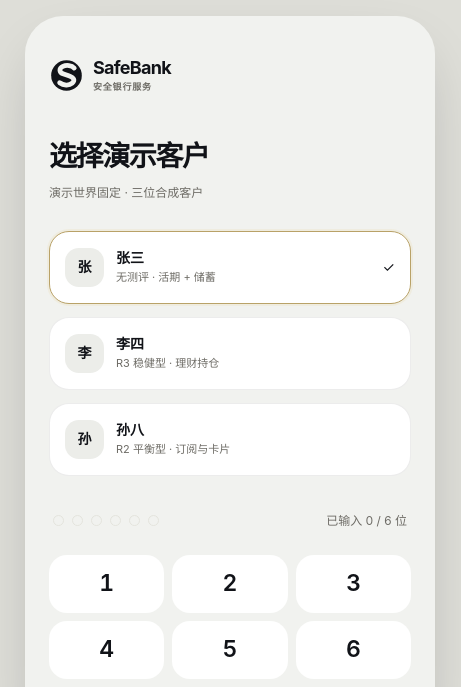
Test case: 登录页 › 未满 6 位不提交
Expected: the heading "选择演示客户" is shown, [49, 139, 209, 173]
Click the button "1".
click(107, 584)  # box [49, 555, 164, 613]
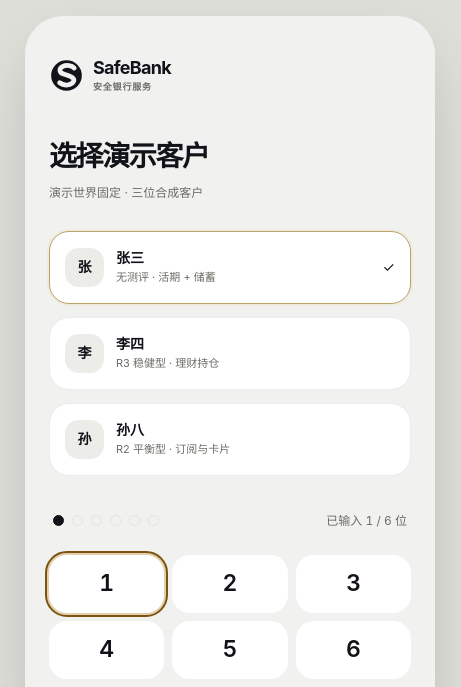
Click the button "2".
click(230, 584)  # box [172, 555, 288, 613]
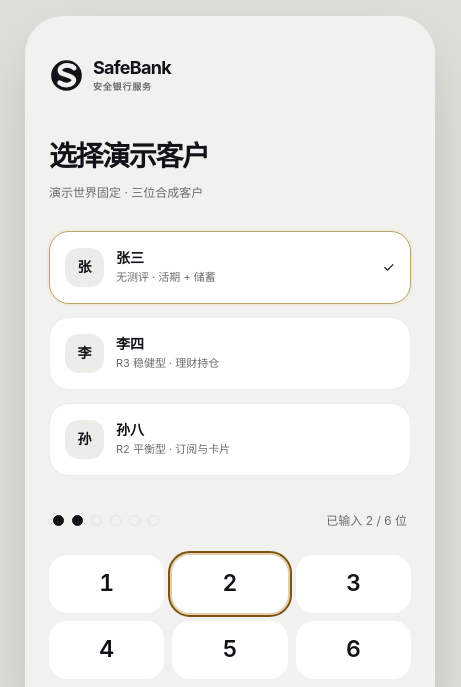
Click the button "3".
click(353, 584)  # box [296, 555, 411, 613]
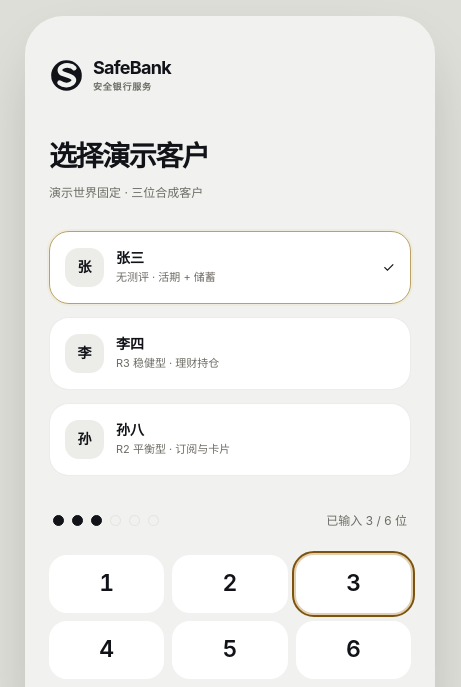
Click the button "4".
click(107, 650)  # box [49, 621, 164, 679]
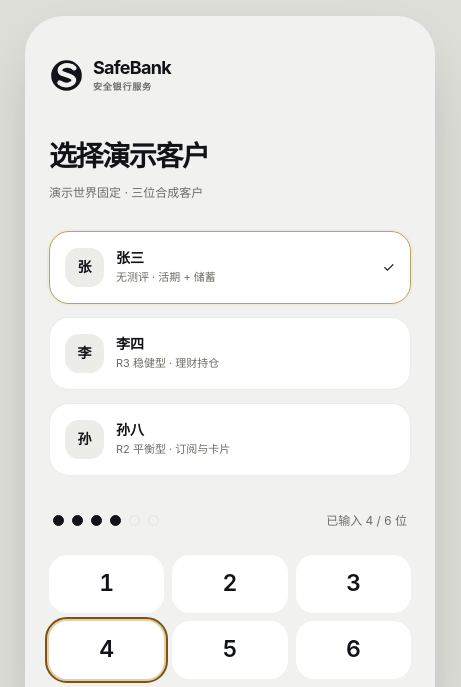
Click the button "5".
click(230, 650)  # box [172, 621, 288, 679]
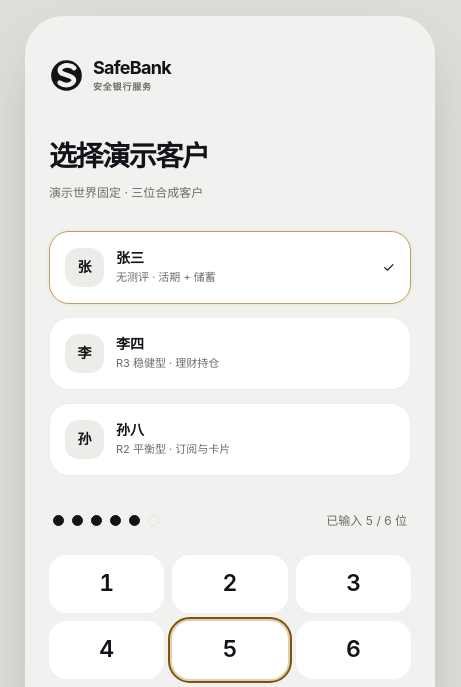
Now the text "已输入 5 / 6 位" is shown, box [326, 511, 407, 530]
